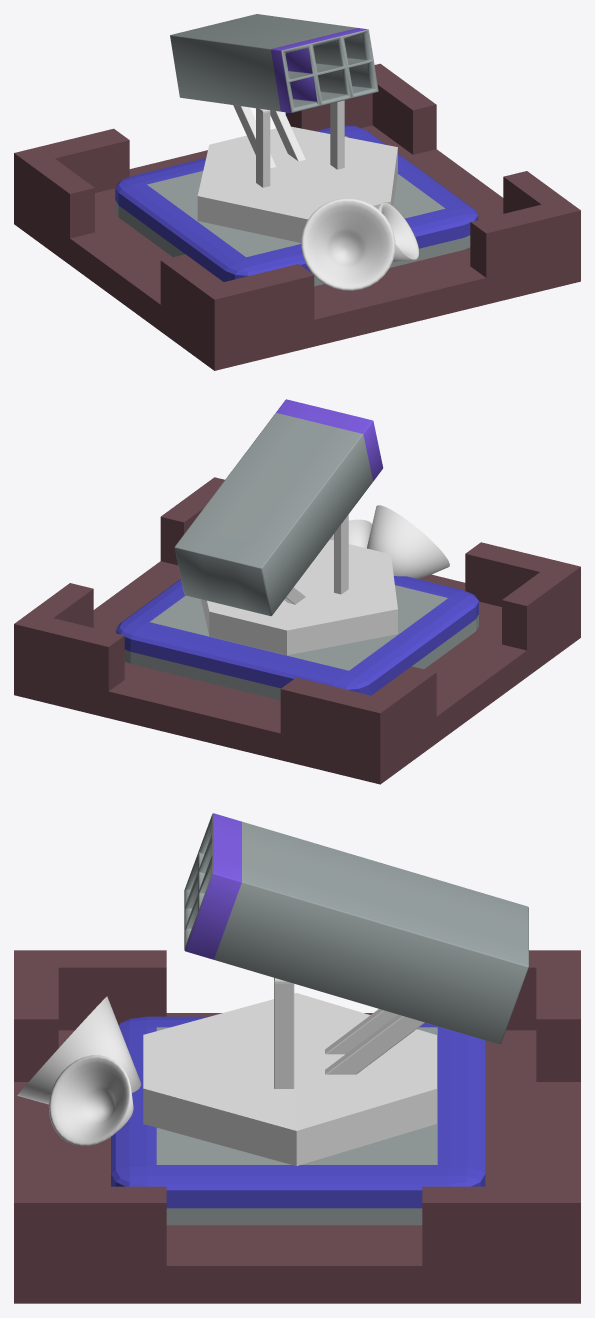
File: ByteSweeper2.fbx
3 views of the same model, one above another, from view 1: azimuth 30°, elevation 25°; view 2: azimuth 150°, elevation 25°; view 3: azimuth 270°, elevation 25° (orthographic). The views are drawn at different scales.
Visible parts, largest first — view 1: Platform.001, Cube.007, Stage.001, Cube.009, Cone.001, Cone.004, Cube.008, Cube.006, Cube.005, Cube.018; view 2: Platform.001, Cube.007, Stage.001, Cube.009, Cone.001, Cube.008, Cone.004; view 3: Platform.001, Cube.007, Stage.001, Cube.009, Cone.004, Cone.001, Cube.006, Cube.005, Cube.018.
Part boxes in pixels (<box>): Platform.001: <box>14,63,580,370</box>; Cube.007: <box>170,14,378,112</box>; Stage.001: <box>115,125,478,286</box>; Cube.009: <box>197,126,397,242</box>; Cone.001: <box>301,198,395,290</box>; Cone.004: <box>378,202,419,261</box>; Cube.008: <box>256,108,270,187</box>; Cube.006: <box>330,100,344,169</box>; Cube.005: <box>270,110,305,161</box>; Cube.018: <box>233,105,276,168</box>; Platform.001: <box>14,477,580,784</box>; Cube.007: <box>174,399,383,616</box>; Stage.001: <box>116,576,478,700</box>; Cube.009: <box>201,539,397,655</box>; Cone.001: <box>367,505,449,579</box>; Cube.008: <box>334,515,348,594</box>; Cone.004: <box>330,519,371,548</box>; Platform.001: <box>14,950,580,1303</box>; Cube.007: <box>184,813,528,1044</box>; Stage.001: <box>111,1016,485,1225</box>; Cube.009: <box>143,993,436,1165</box>; Cone.004: <box>48,1055,133,1146</box>; Cone.001: <box>17,996,140,1104</box>; Cube.006: <box>274,978,294,1088</box>; Cube.005: <box>325,1014,424,1074</box>; Cube.018: <box>325,1009,397,1054</box>.
Bounding box in the file's own units: 130 × 79.6 × 123.
